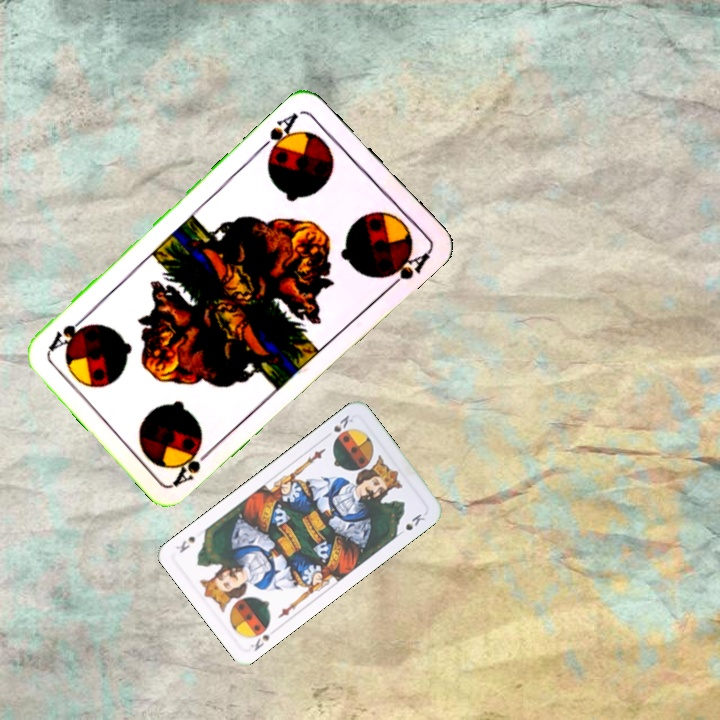SA: (169, 438, 217, 489), (256, 108, 302, 160)
SK: (329, 411, 356, 435), (247, 630, 272, 654)
